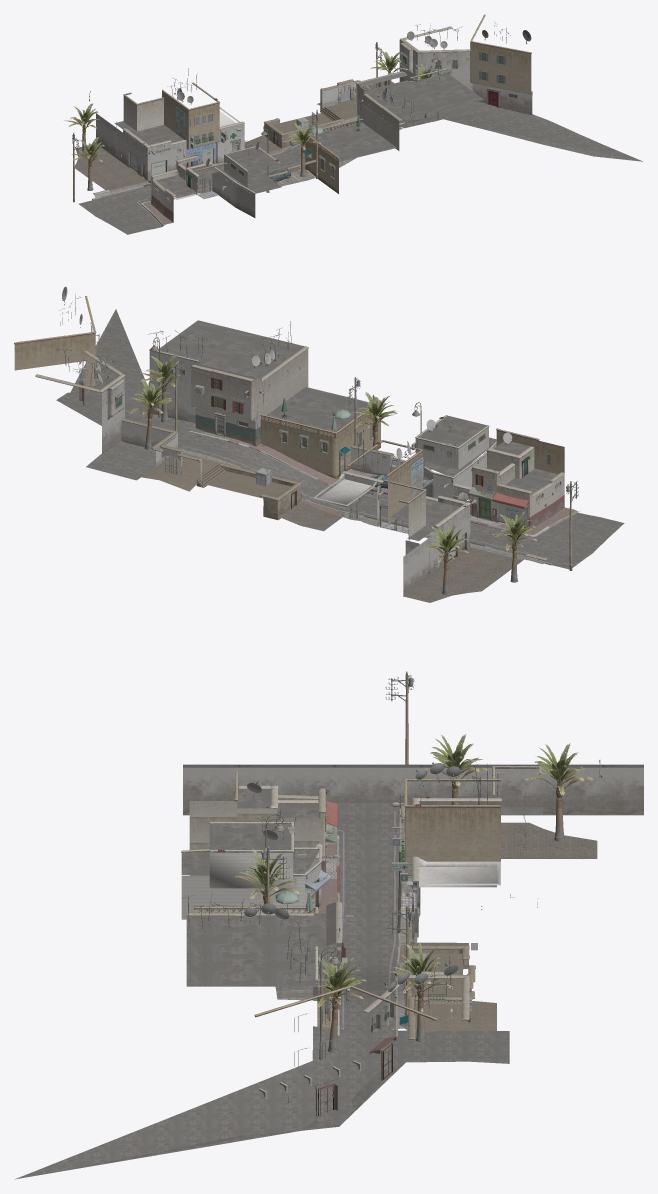
File: dust2.glb
3 views of the same model, one above another, from view 1: azimuth 30°, elevation 25°; view 2: azimuth 150°, elevation 25°; view 3: azimuth 270°, elevation 25° (orthographic). The views are drawn at different scales.
Visible parts, largest first — view 1: object 1, n0_lr0_agg_prop_palm_frond_01_0 (×3); view 2: object 1, n0_lr0_agg_prop_palm_frond_01_0 (×5); view 3: object 1, n0_lr0_agg_prop_palm_frond_01_0 (×5).
Part boxes in pixels (x1,y1,x2,y2): object 1: [72, 14, 642, 234]; n0_lr0_agg_prop_palm_frond_01_0 (×3): [64, 103, 321, 162]; object 1: [14, 286, 624, 602]; n0_lr0_agg_prop_palm_frond_01_0 (×5): [129, 354, 537, 562]; object 1: [15, 671, 643, 1179]; n0_lr0_agg_prop_palm_frond_01_0 (×5): [235, 734, 593, 1007].
Size of the model in its own units: 96.59 by 20.75 by 64.16.
Materials: 186 (186 with a texture image).
